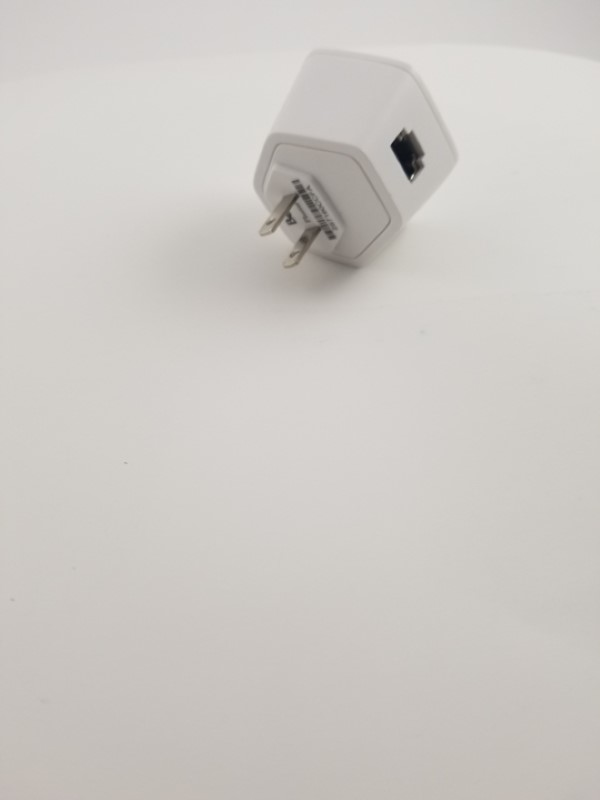pod: (249, 42, 466, 294)
